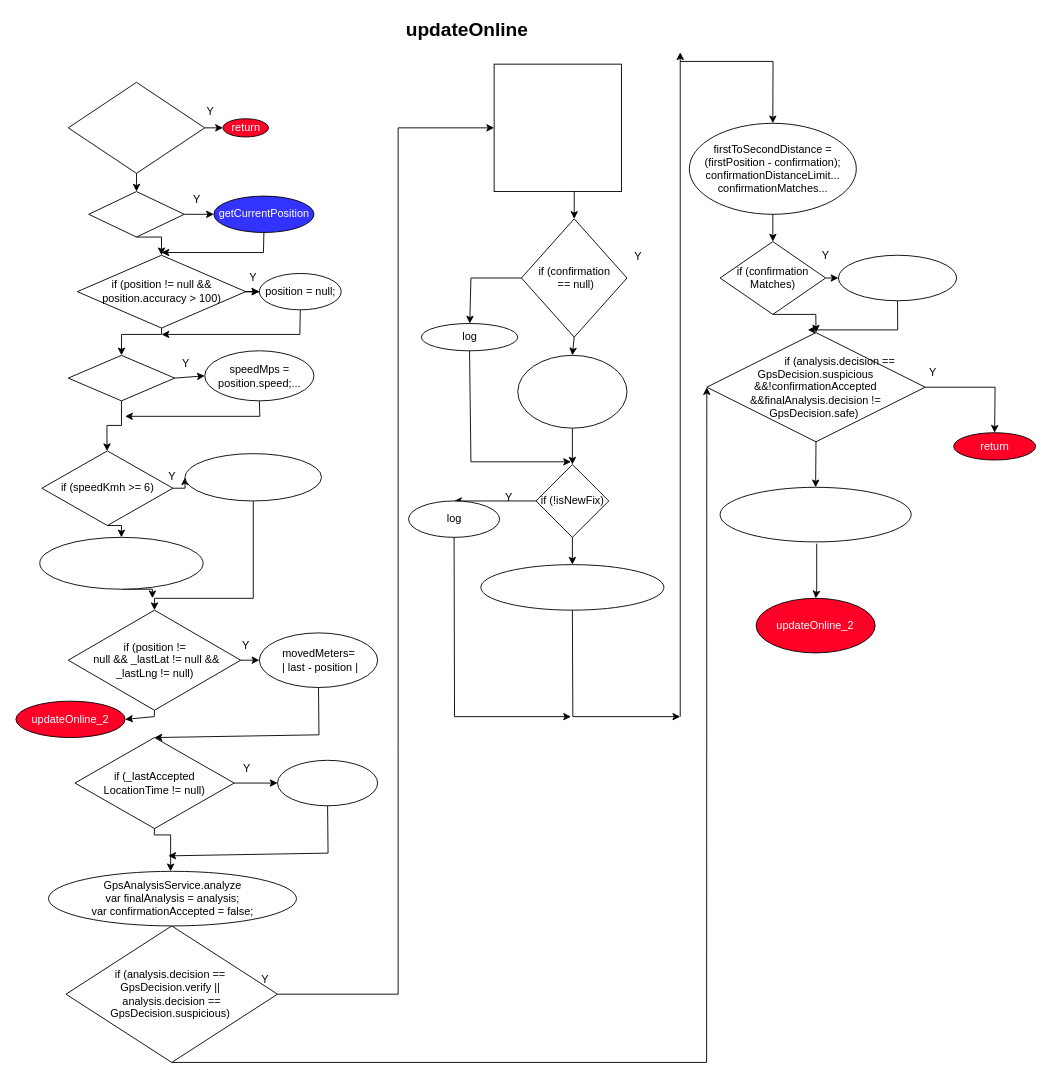
Some shapes in this 1052 by 1086 pixel diagram are drawn without their labels. Each missing label, with the centre of its shape:
"elapsedSeconds = now-lastAcc." belongs at (x=327, y=782).
"firstPosition = position; ... confirmation = await _getConfirmationPosition" belongs at (x=557, y=127).
"if (gpsEnabled)" belongs at (x=136, y=214).
"if (groupId == null || locatorId == null)" belongs at (x=136, y=127).
"if (position != null)" belongs at (x=121, y=377).
"isNewFix = confirmation. timestamp.isAfter" belongs at (x=572, y=391).
"position = confirmation;" belongs at (x=897, y=277).
"secondAnalysis = GpsAnalysisService.analyze();" belongs at (x=572, y=587).
"setOdometerTracking(false)" belongs at (x=121, y=562).
"setOdometerTracking(true)" belongs at (x=253, y=477).
"SmartPresenceScheduler. setSpeedKmh(speedKmh,);}" belongs at (x=815, y=514).
